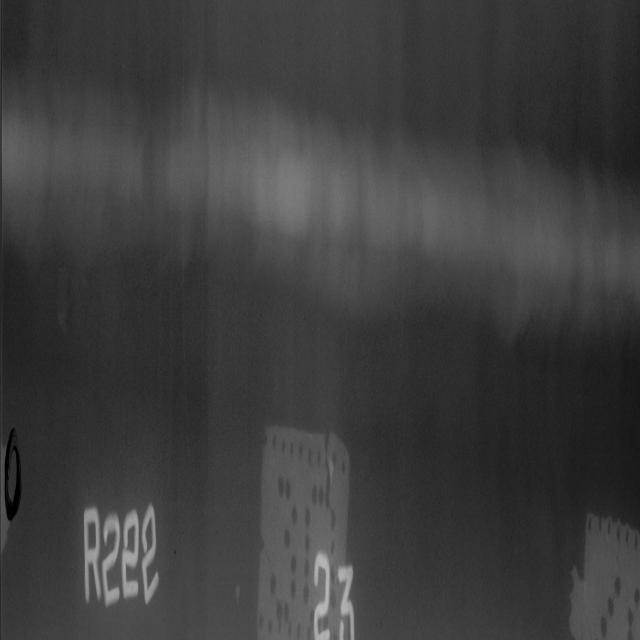FF: (5, 85, 640, 324)
